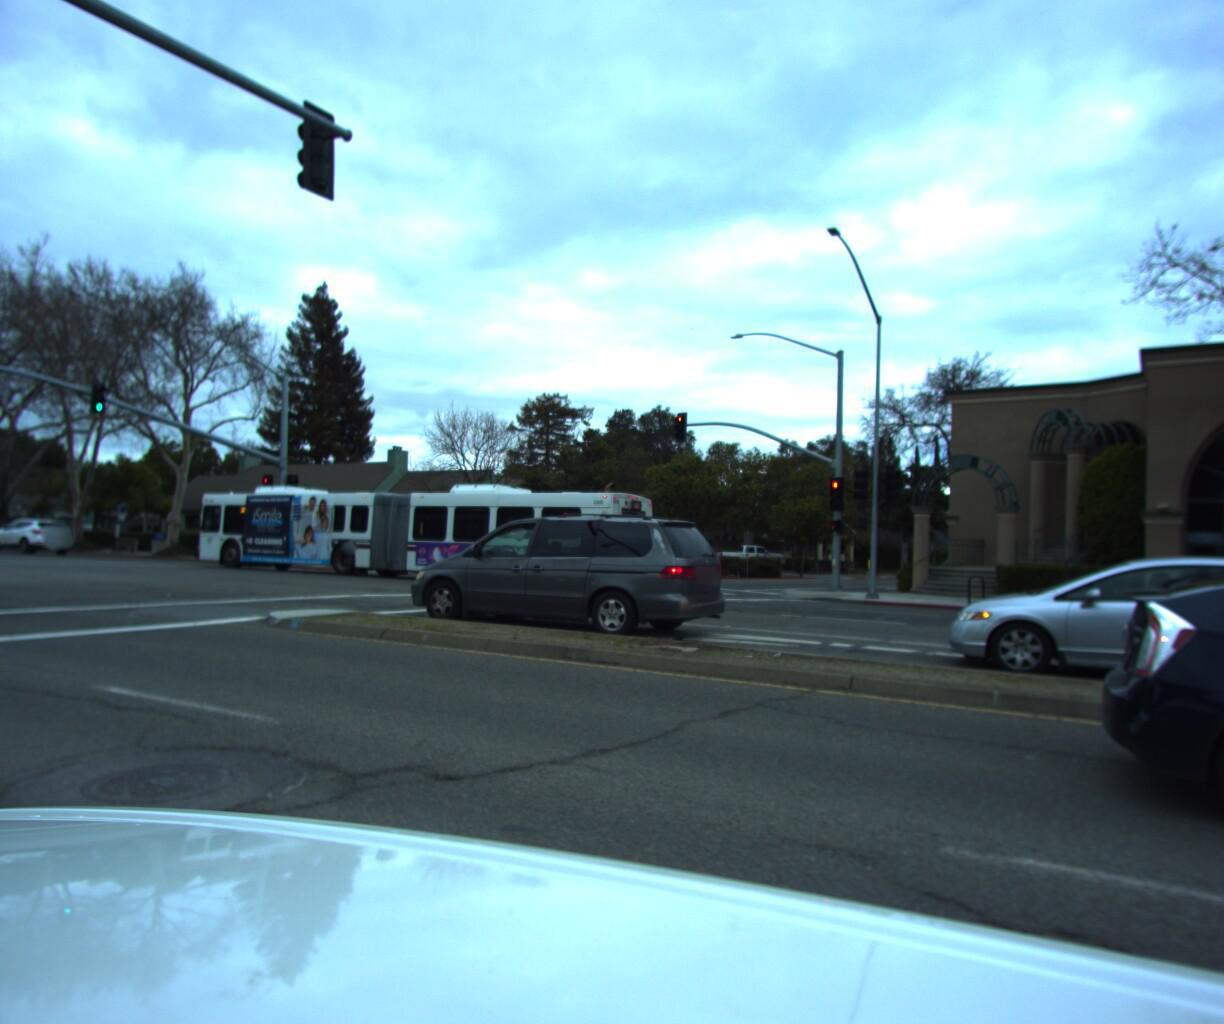bus: (186, 479, 665, 594)
car: (1057, 541, 1224, 1024), (927, 542, 1224, 724), (385, 506, 739, 641), (0, 509, 77, 550), (709, 535, 776, 560)
